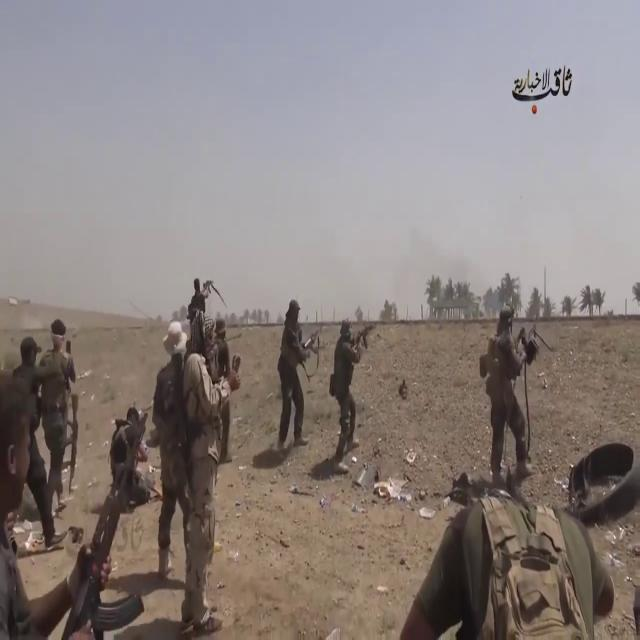long weapon: (51, 401, 154, 639), (60, 385, 86, 501), (521, 311, 549, 381), (301, 318, 323, 368), (355, 310, 377, 358), (202, 264, 216, 303)
